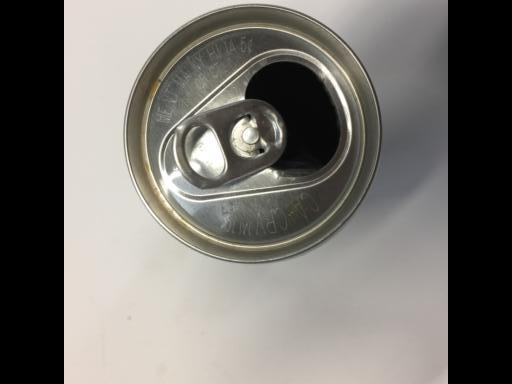metal: (124, 2, 385, 266)
